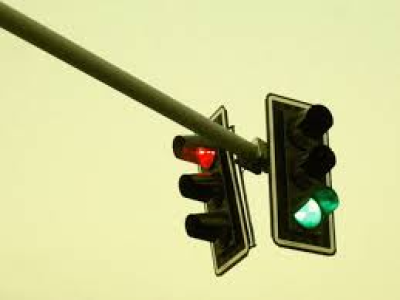trafficlight_green: (289, 105, 338, 233)
trafficlight_red: (173, 132, 228, 252)
